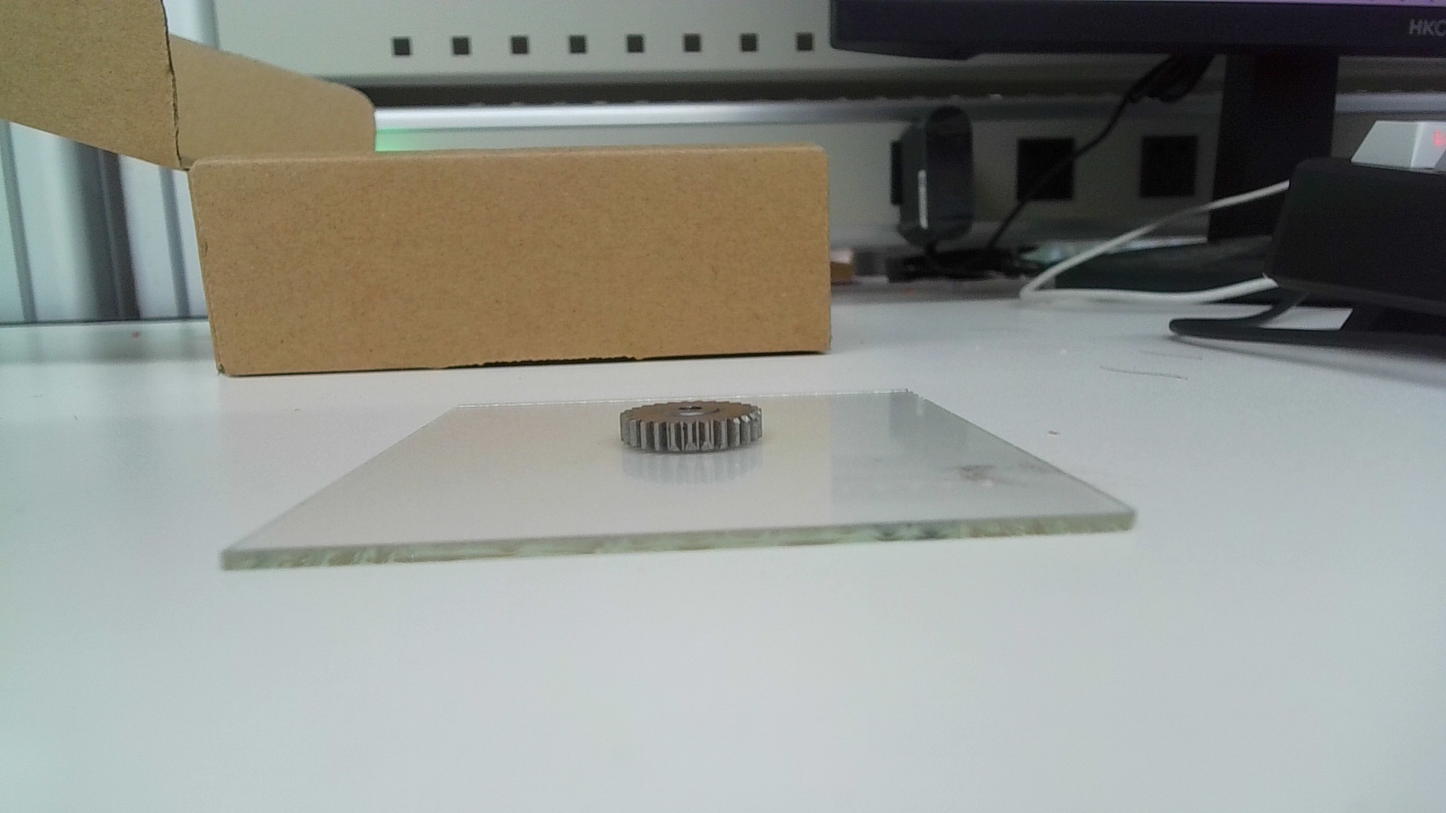gear: (619, 399, 764, 454)
